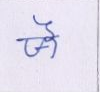ai_matra: (33, 15, 57, 36)
